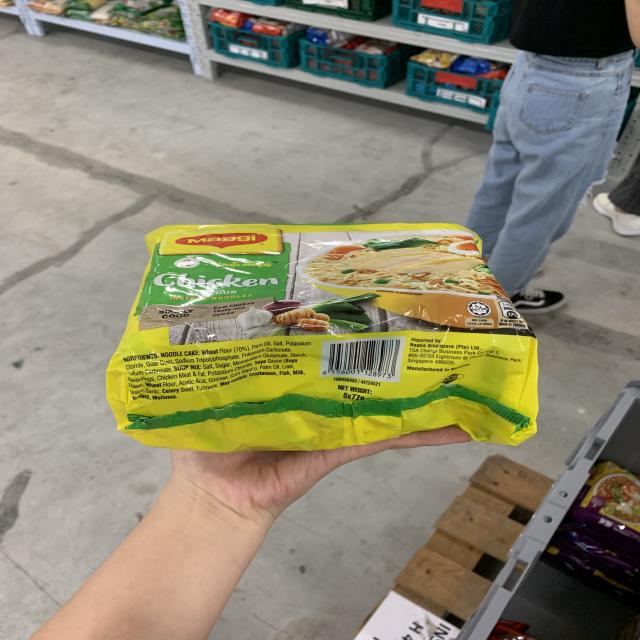object_name: (125, 221, 531, 435)
